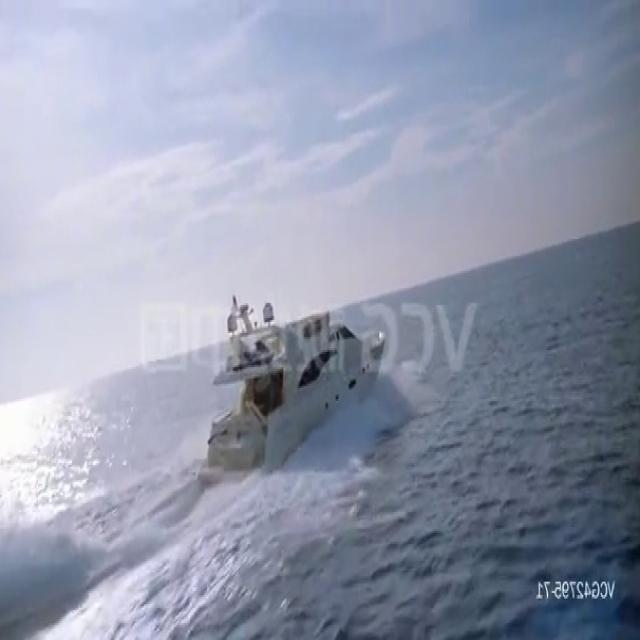houseboat: (205, 299, 386, 487)
